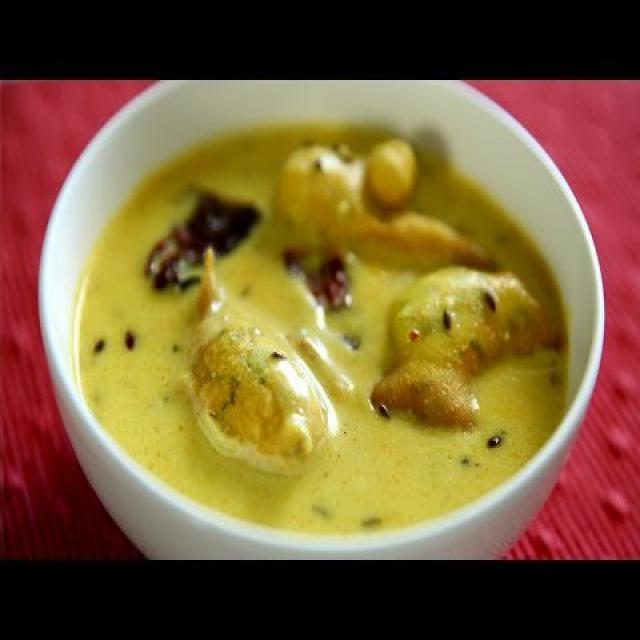Kadhi Pakora: (80, 124, 579, 530)
